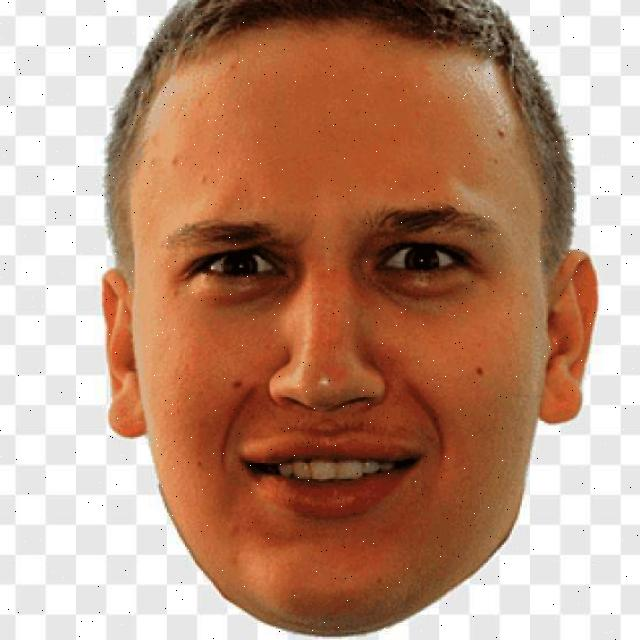puffy_eyes: (192, 280, 287, 309), (389, 274, 482, 300)
